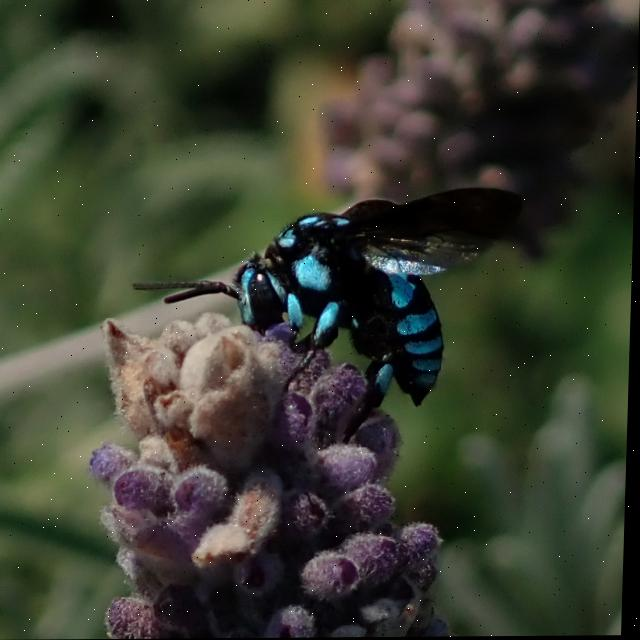Thyreus: (128, 184, 534, 416)
